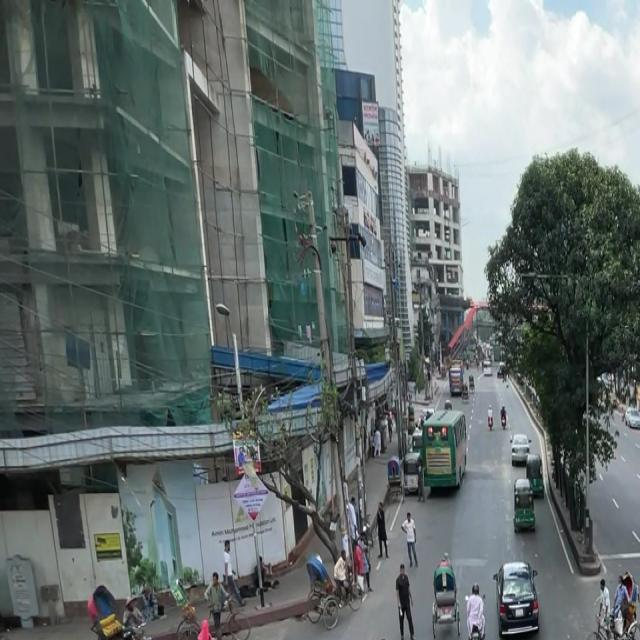car: (490, 552, 544, 640), (509, 431, 535, 472)
motorbike: (462, 577, 489, 640)
rickshaw: (508, 473, 541, 542)
